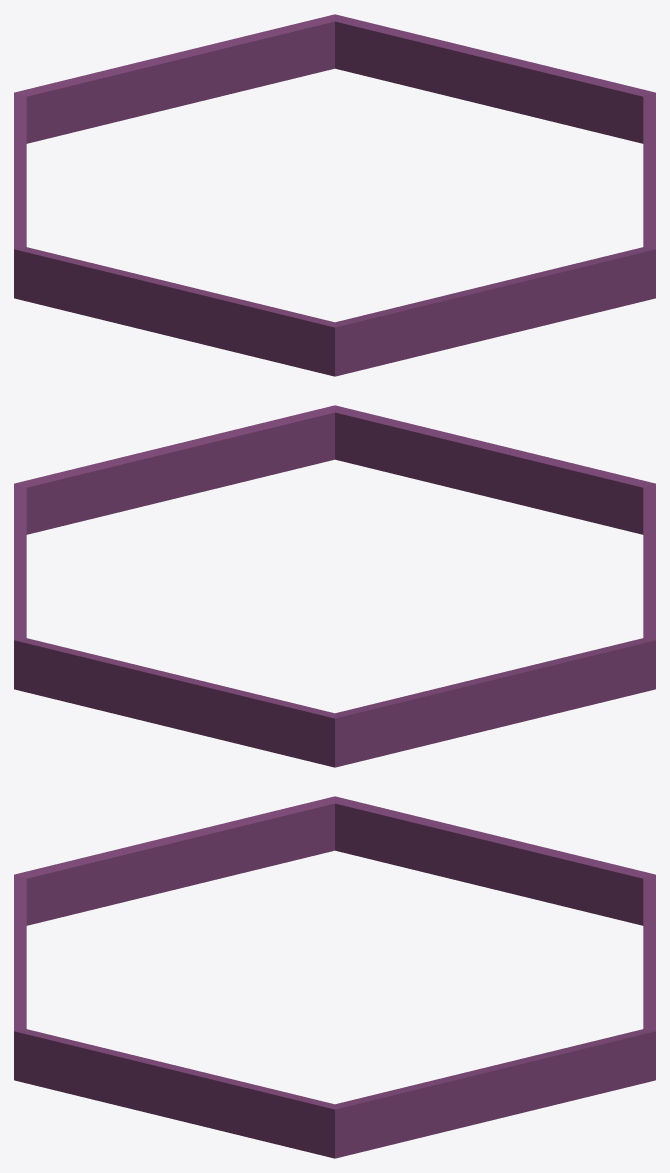
File: comutadorBase.glb
3 renders of one model, top to bottom at view 1: azimuth 30°, elevation 25°; view 2: azimuth 150°, elevation 25°; view 3: azimuth 270°, elevation 25°, orthographic.
Visible parts, largest first — view 1: comutadorBase; view 2: comutadorBase; view 3: comutadorBase.
Boxes of the visible parts, <box> form: comutadorBase: <box>14,14,655,376</box>; comutadorBase: <box>14,405,655,767</box>; comutadorBase: <box>14,796,655,1158</box>.
Size of the model in its own units: 1.8 by 0.1318 by 1.56.
